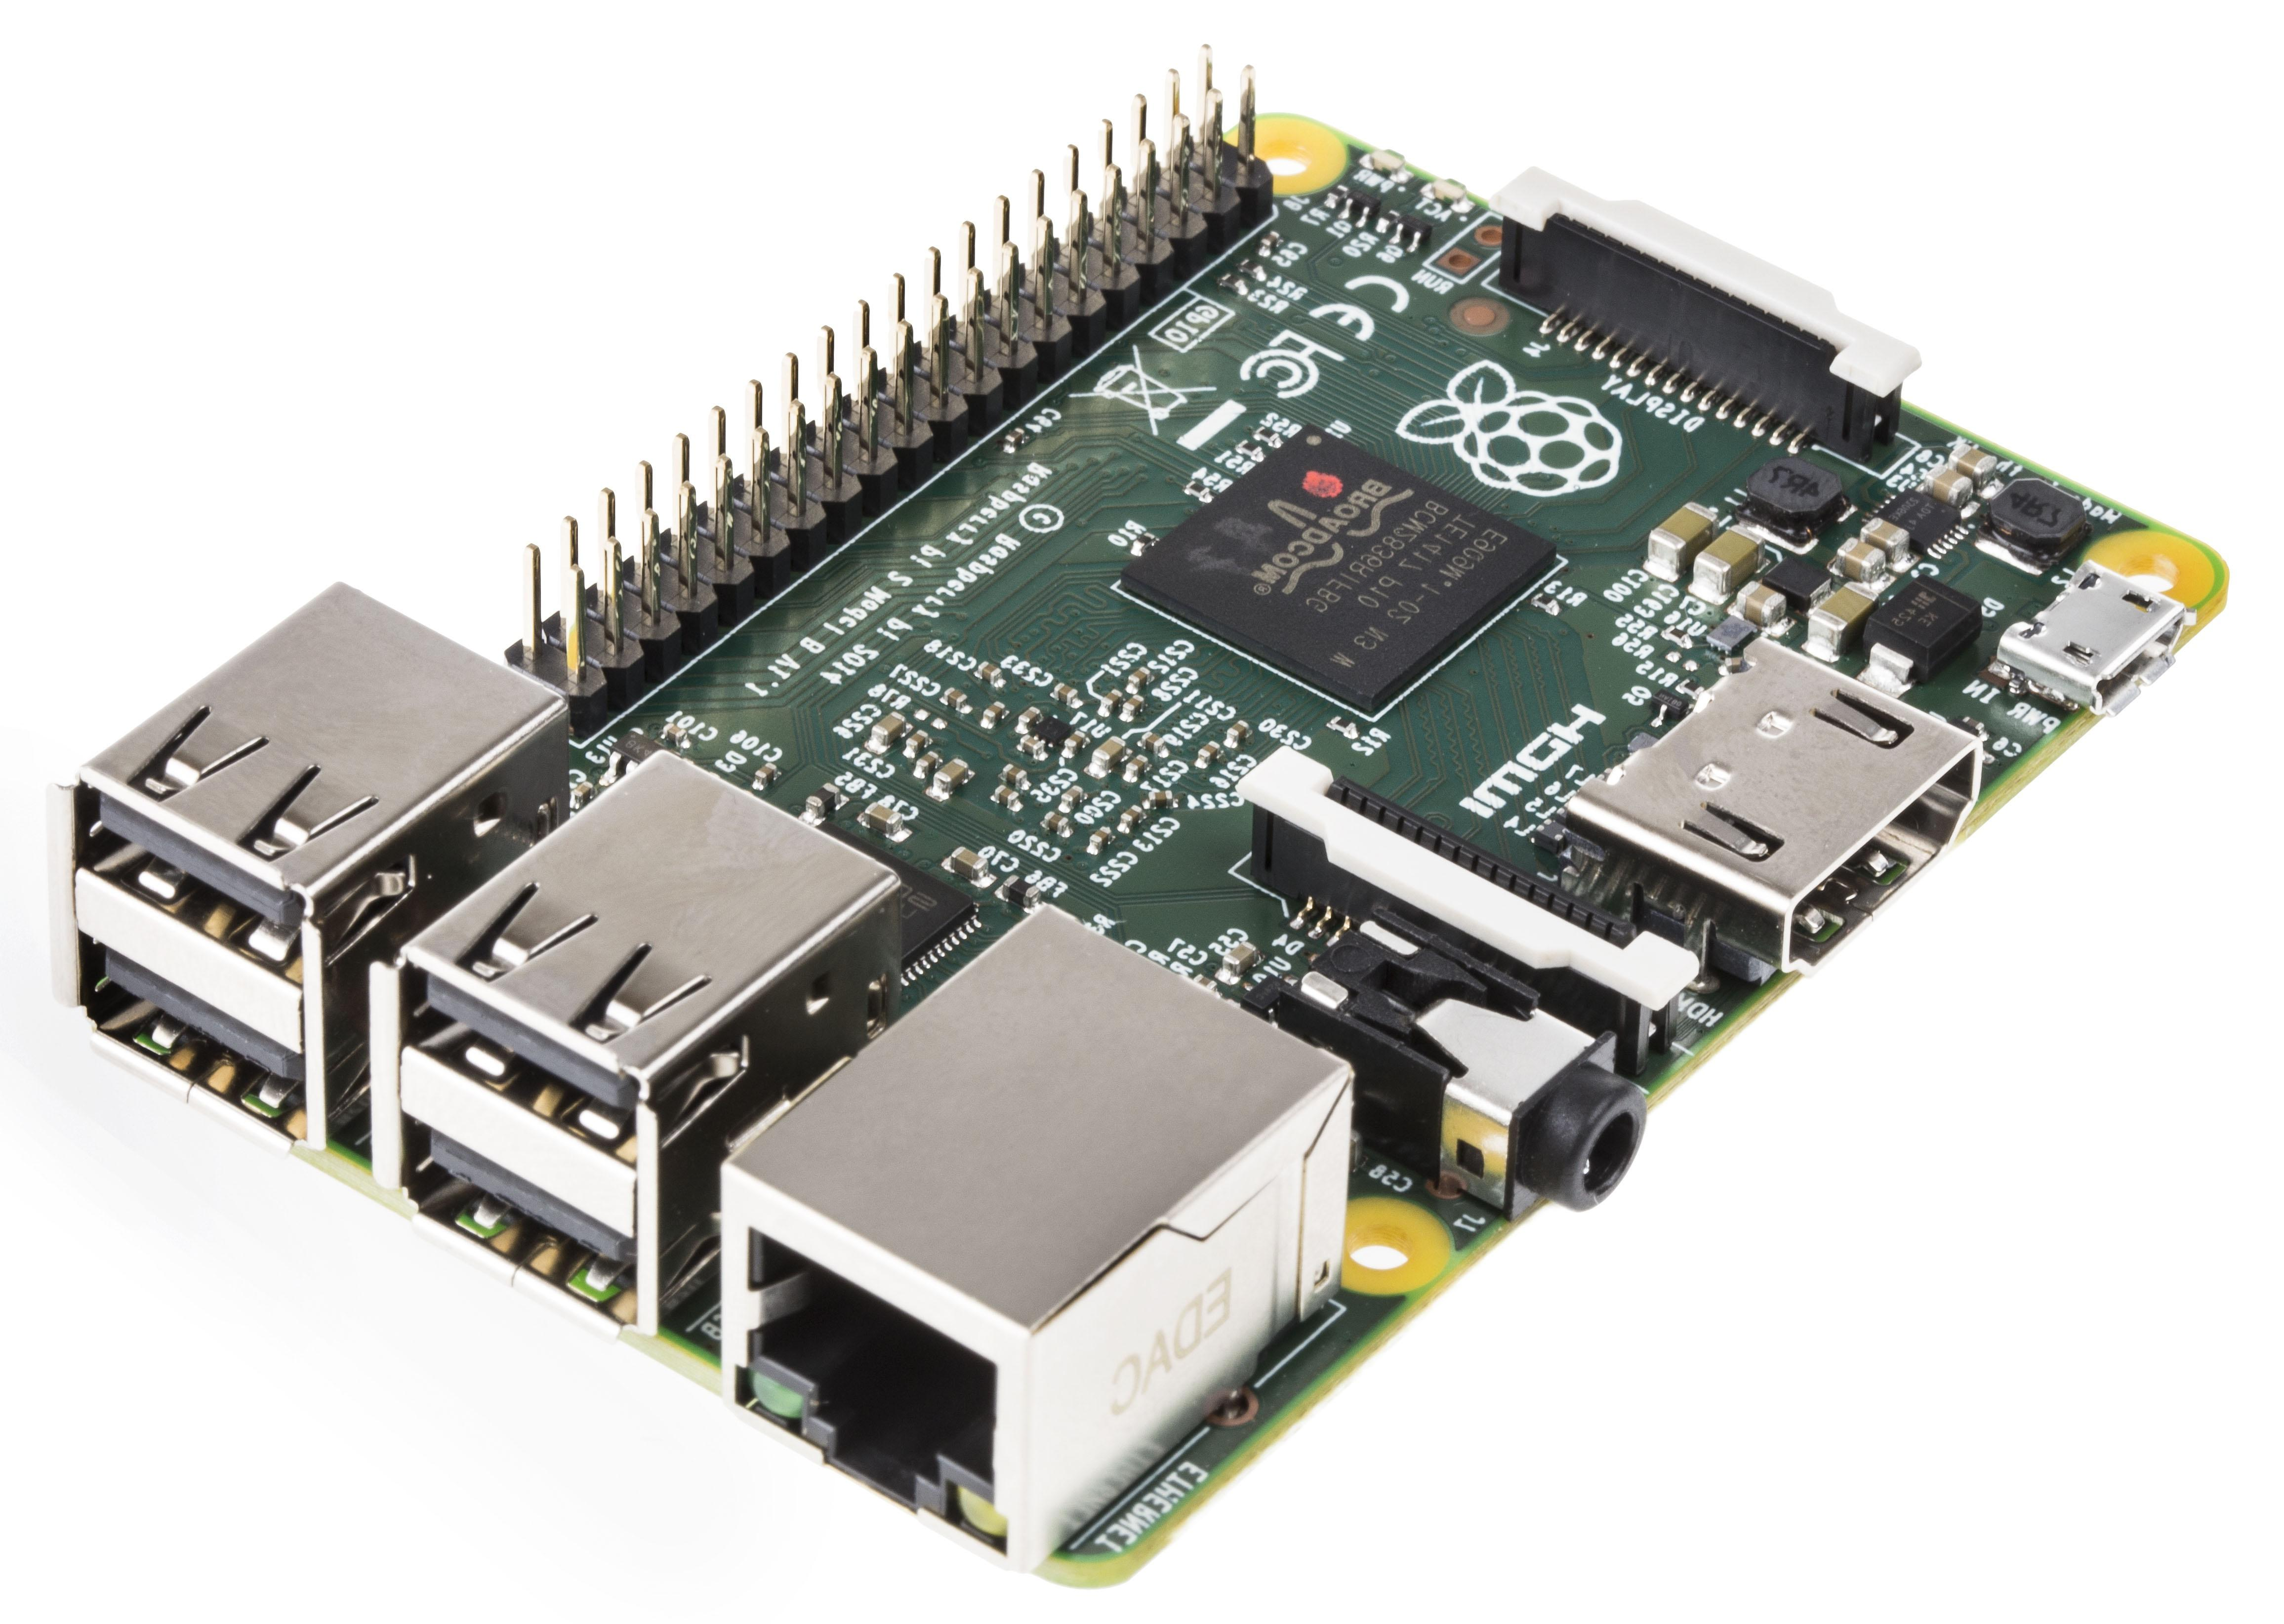audiojack: (1277, 919, 1678, 1272)
bchi: (1119, 420, 1564, 728)
ethernet: (715, 889, 1365, 1594)
gpio: (524, 69, 1302, 638)
usb: (364, 742, 912, 1355), (49, 573, 576, 1146)
